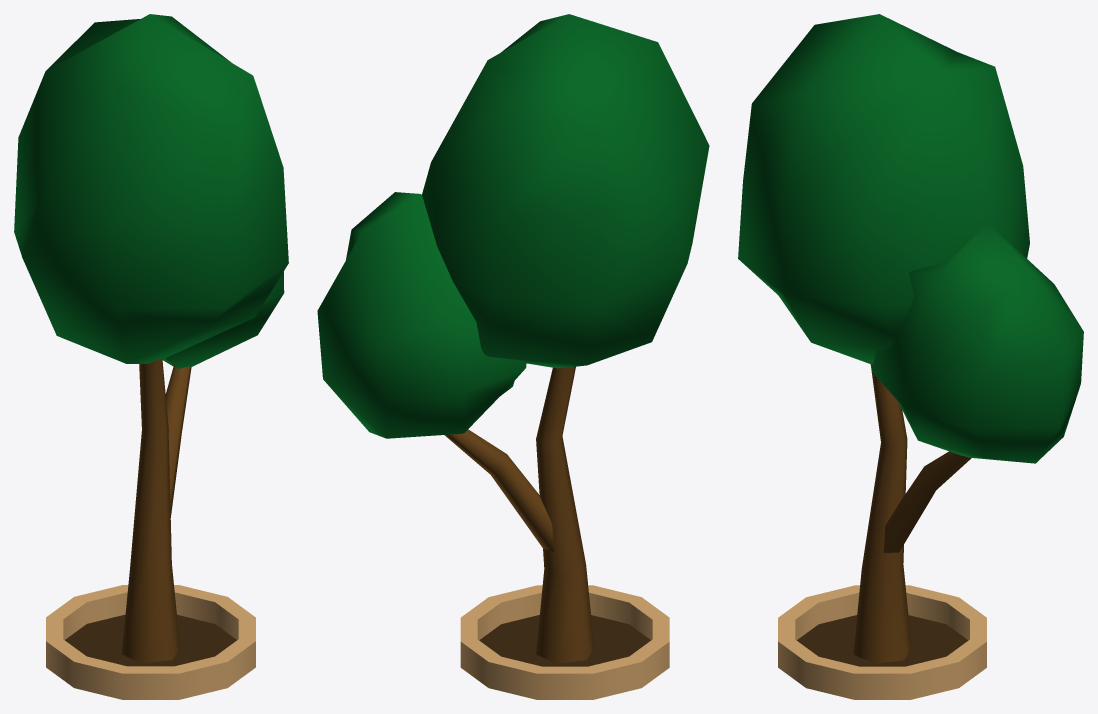
File: trees_5.fbx
3 renders of one model, left to right at view 1: azimuth 30°, elevation 25°; view 2: azimuth 150°, elevation 25°; view 3: azimuth 270°, elevation 25°, orthographic.
Parts seen in each view (by area): view 1: trees_5; view 2: trees_5; view 3: trees_5.
Part boxes in pixels (bbox=[...]): trees_5: bbox=[14, 14, 288, 699]; trees_5: bbox=[317, 14, 709, 699]; trees_5: bbox=[738, 14, 1083, 699].
Size of the model in its own units: 169 by 345 by 169.
1 material, 1 textured.
